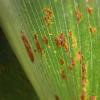Corn rust leaf: (1, 1, 100, 100)
